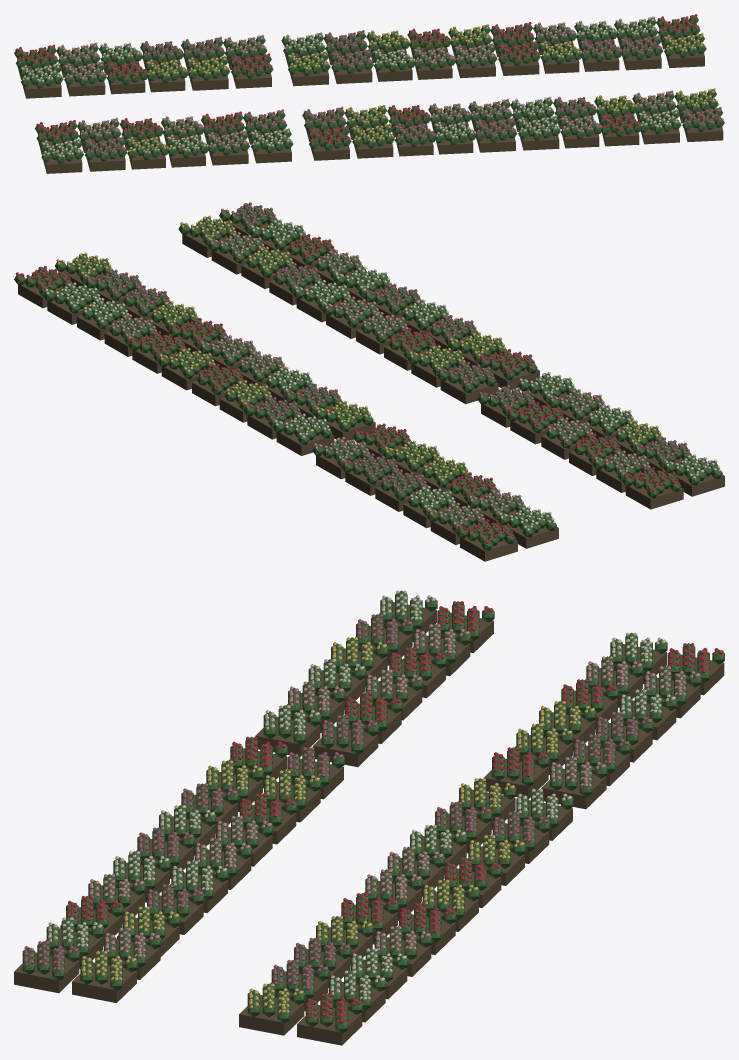
The model's file is nakanoshima-roses.glb.
3 views of the same model, one above another, from view 1: azimuth 30°, elevation 25°; view 2: azimuth 150°, elevation 25°; view 3: azimuth 270°, elevation 25° (orthographic). The views are drawn at different scales.
Size of the model in its own units: 49.47 by 1.39 by 34.34.
